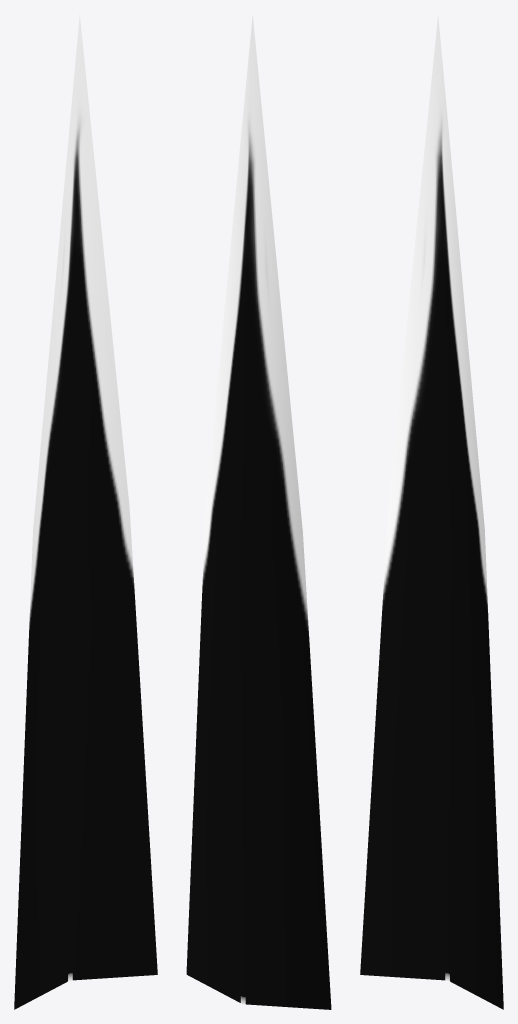
File: GrassBlade_model_bended_opt_newnormal.fbx
3 views of the same model, side by side, from view 1: azimuth 30°, elevation 25°; view 2: azimuth 150°, elevation 25°; view 3: azimuth 330°, elevation 25° (orthographic).
Parts seen in each view (by area): view 1: Blade_FixedNormals; view 2: Blade_FixedNormals; view 3: Blade_FixedNormals.
Part boxes in pixels (left/top/right/bottom): Blade_FixedNormals: left=14, top=14, right=157, bottom=1009; Blade_FixedNormals: left=186, top=15, right=331, bottom=1009; Blade_FixedNormals: left=360, top=14, right=503, bottom=1009.
Bounding box in the file's own units: 0.0196 × 0.1003 × 0.6494.
